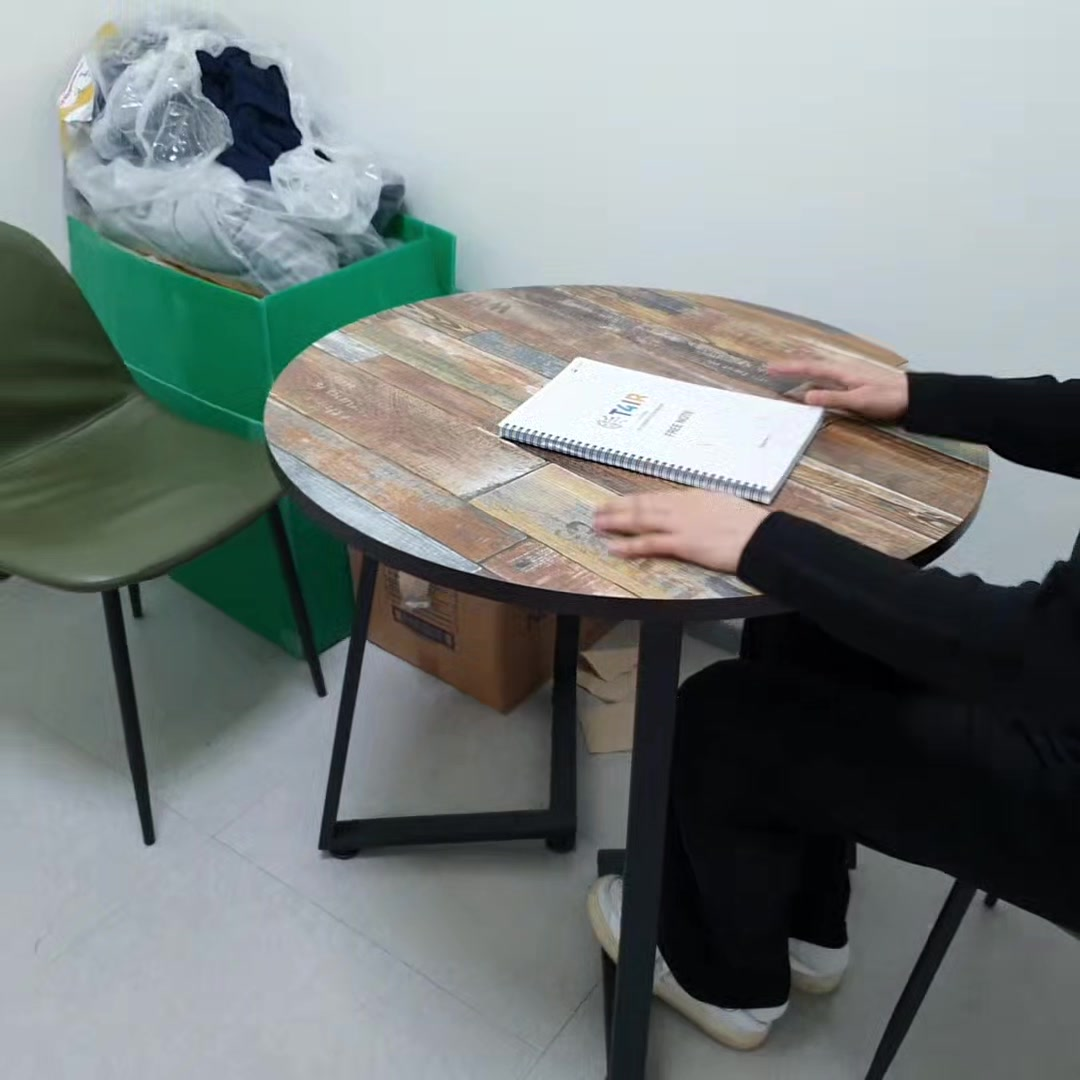book: (496, 345, 839, 517)
